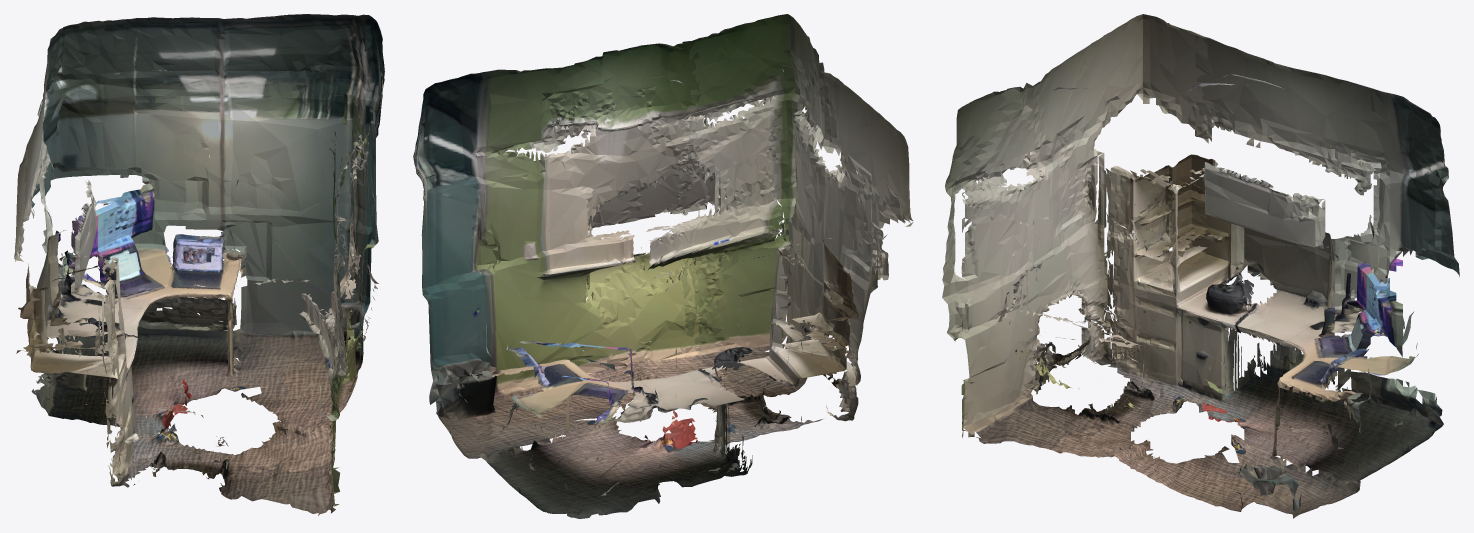
File: work_1.glb
3 views of the same model, side by side, from view 1: azimuth 30°, elevation 25°; view 2: azimuth 150°, elevation 25°; view 3: azimuth 270°, elevation 25° (orthographic). The views are drawn at different scales.
Visible parts, largest first — view 1: node_0, node_1; view 2: node_0, node_1; view 3: node_0, node_1.
Boxes of the visible parts, x1,y1,x2,y2 form: node_0: (18,14,384,475); node_1: (14,147,369,515); node_0: (413,38,848,518); node_1: (668,14,913,431); node_0: (1037,31,1459,518); node_1: (942,14,1214,453).
Size of the model in its own units: 3.77 by 2.88 by 4.
2 materials, 2 textured.
